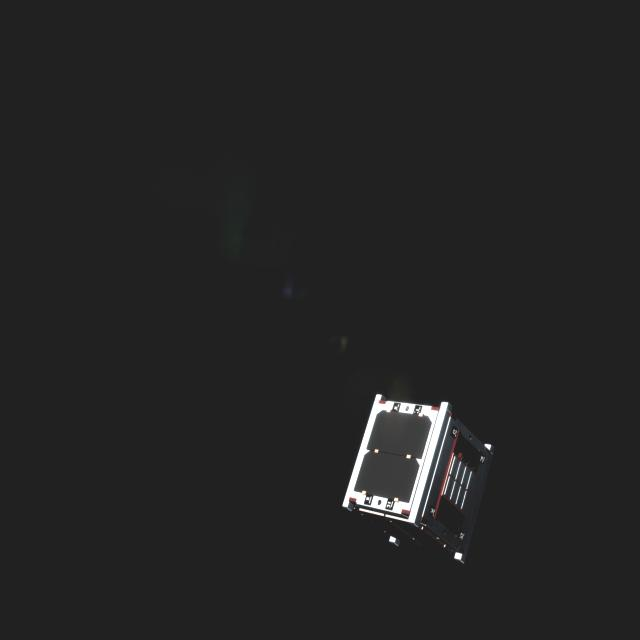satellite: (338, 384, 494, 576)
